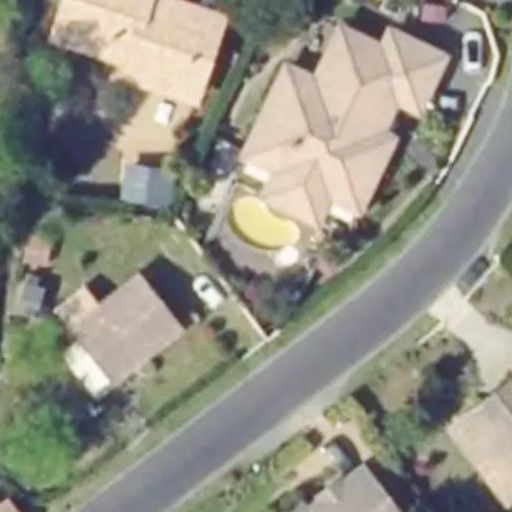pool: (227, 194, 302, 252)
